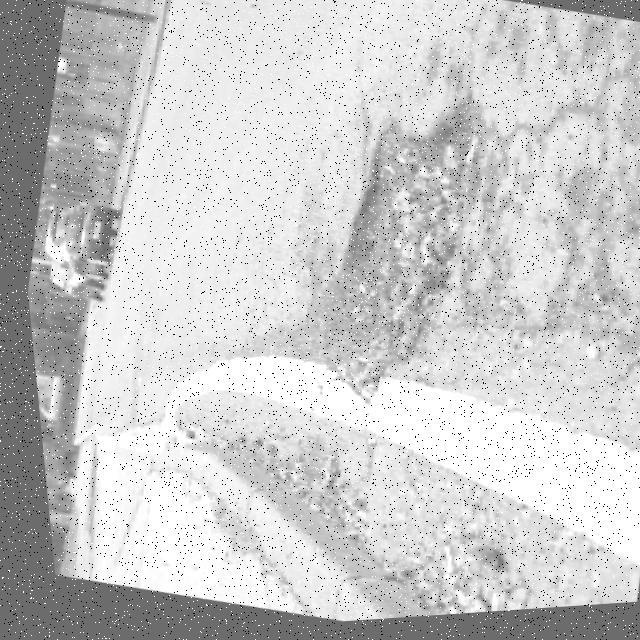pothole: (262, 74, 513, 435)
